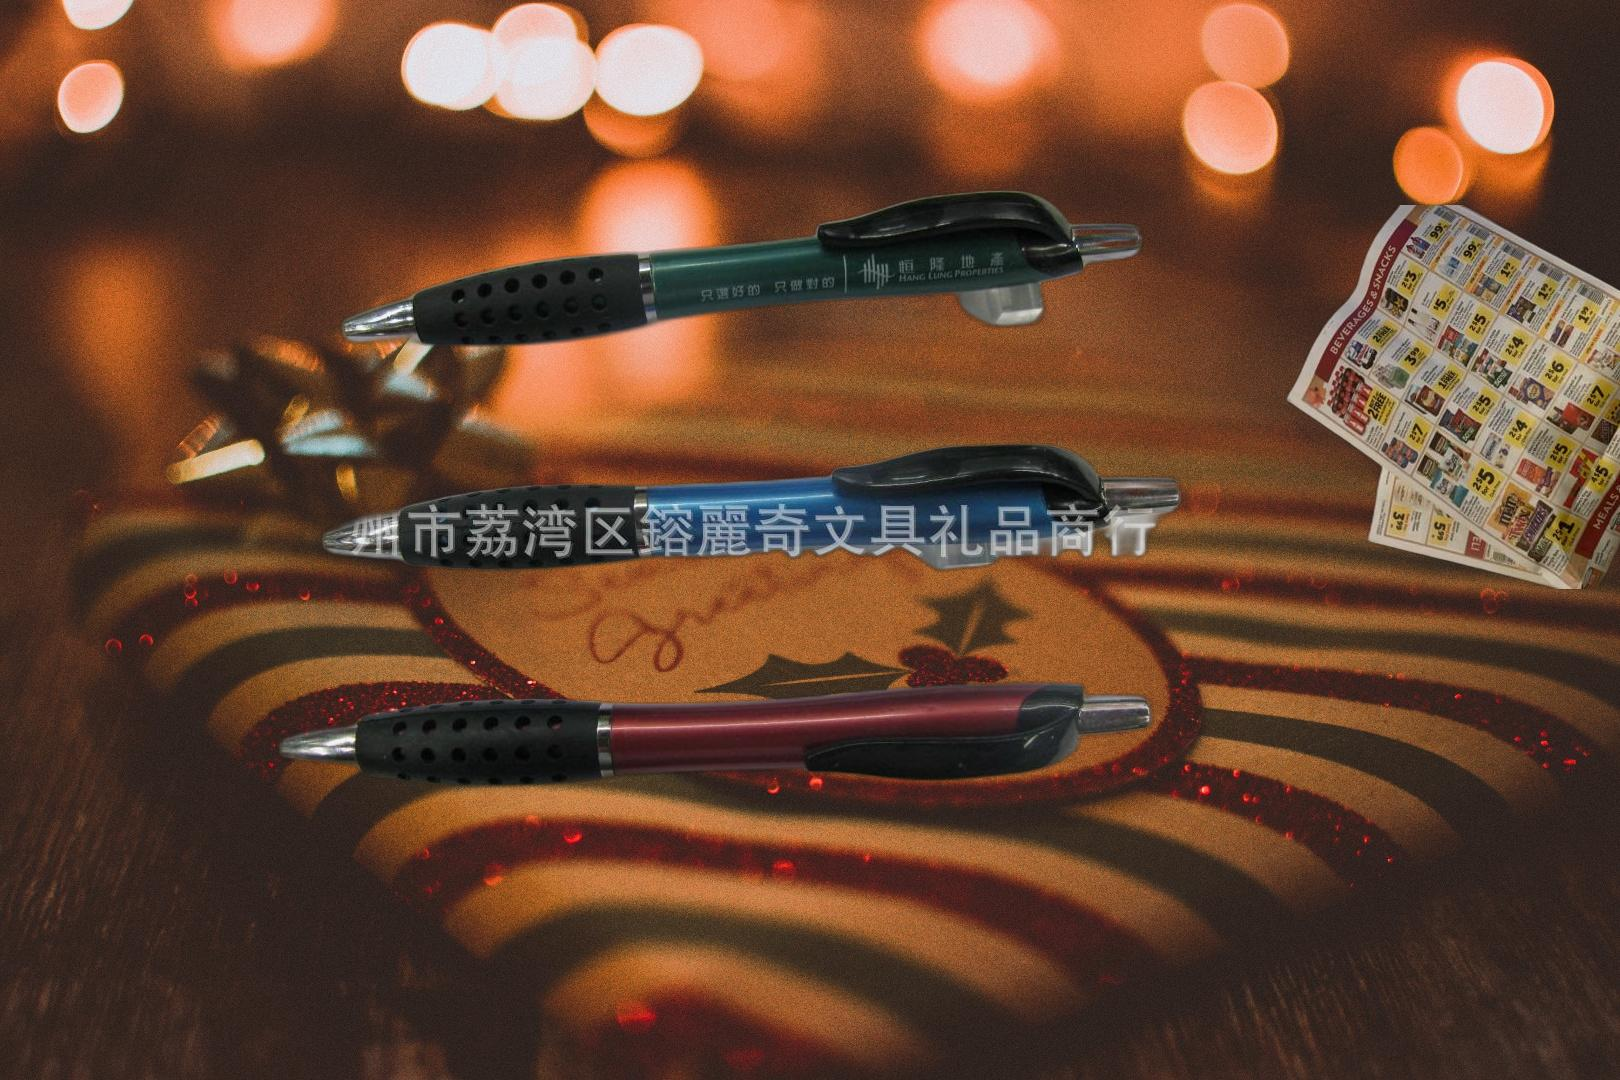paper: (1282, 205, 1620, 589)
penholder: (269, 184, 1191, 792)
